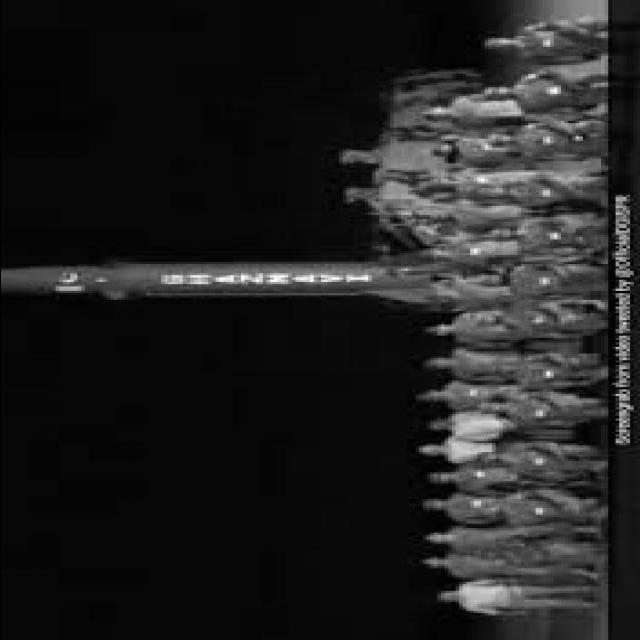missile: (0, 244, 443, 310)
